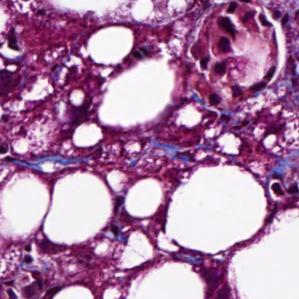inflammation: (204, 13, 245, 59), (230, 66, 278, 101), (266, 175, 299, 205), (19, 241, 40, 267)
